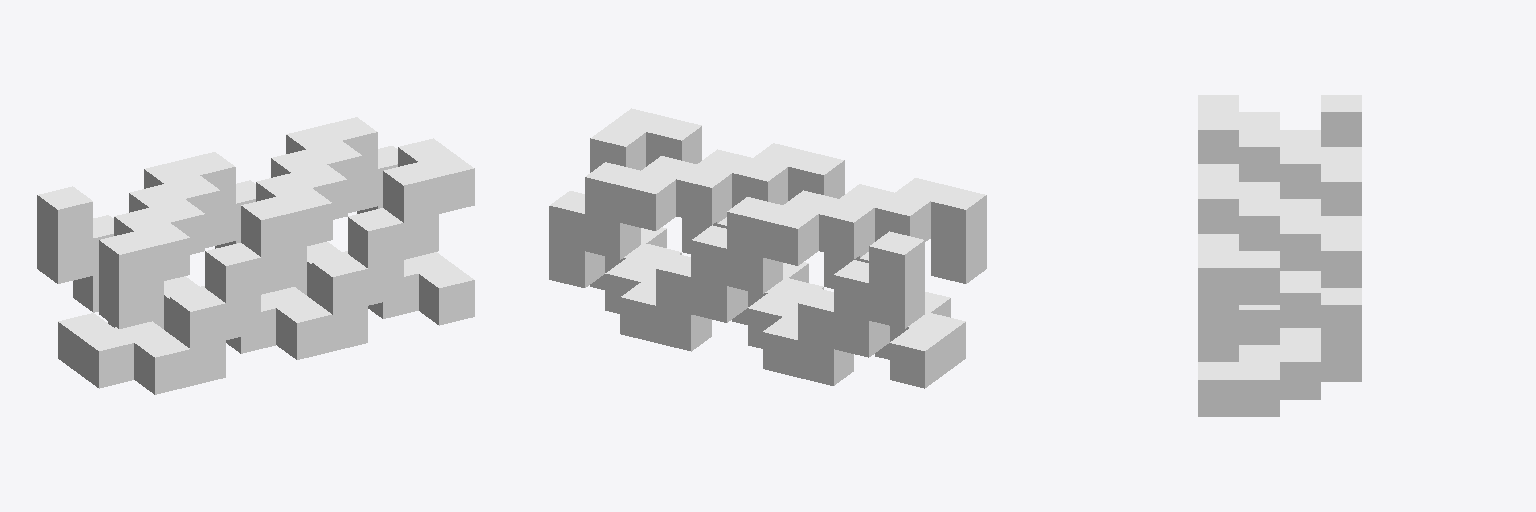
File: hline3.obj
3 renders of one model, left to right at view 1: azimuth 30°, elevation 25°; view 2: azimuth 150°, elevation 25°; view 3: azimuth 270°, elevation 25°, orthographic.
Parts seen in each view (by area): view 1: object 1; view 2: object 1; view 3: object 1.
Boxes of the visible parts, <box> form: object 1: <box>37,117,474,394</box>; object 1: <box>549,108,986,388</box>; object 1: <box>1198,95,1361,416</box>.
Bounding box in the file's own units: 1 × 0.4 × 0.4.